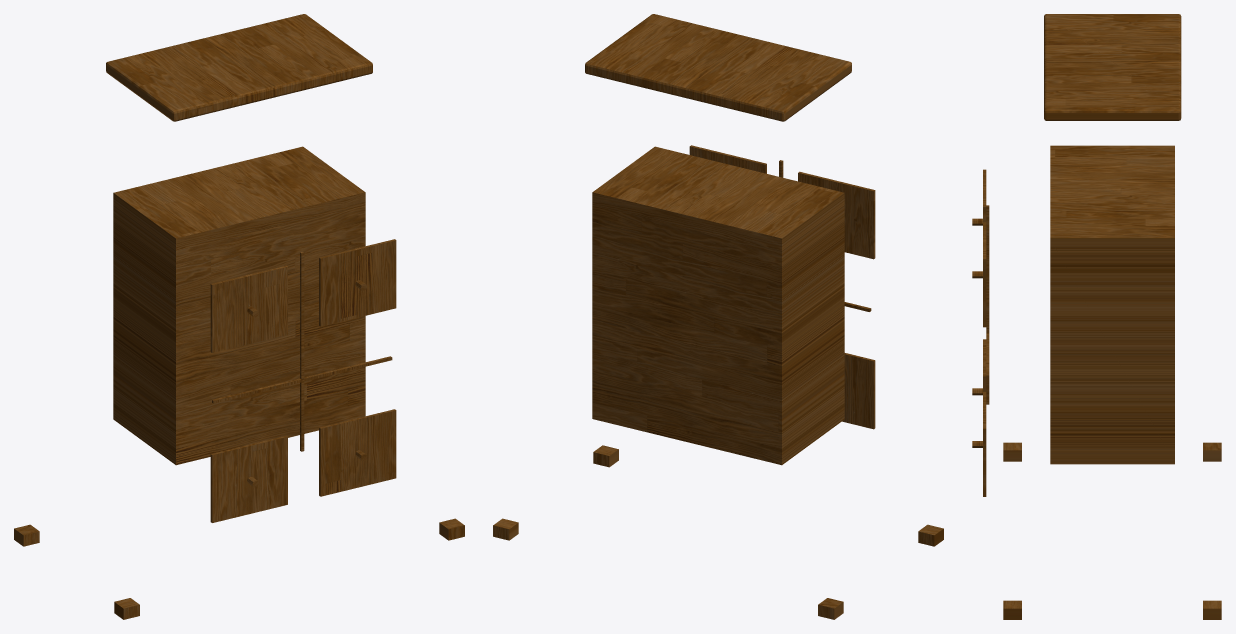
The model's file is cabinet.glb.
3 views of the same model, side by side, from view 1: azimuth 30°, elevation 25°; view 2: azimuth 150°, elevation 25°; view 3: azimuth 270°, elevation 25° (orthographic).
Visible parts, largest first — view 1: cabinet; view 2: cabinet; view 3: cabinet.
Part boxes in pixels (x1,y1,x2,y2): cabinet: (14, 14, 464, 619); cabinet: (493, 14, 943, 619); cabinet: (972, 14, 1221, 619).
Size of the model in its own units: 0.63 by 0.84 by 0.4.
1 material, 1 textured.
